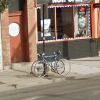Bicycle: (21, 45, 73, 87)
